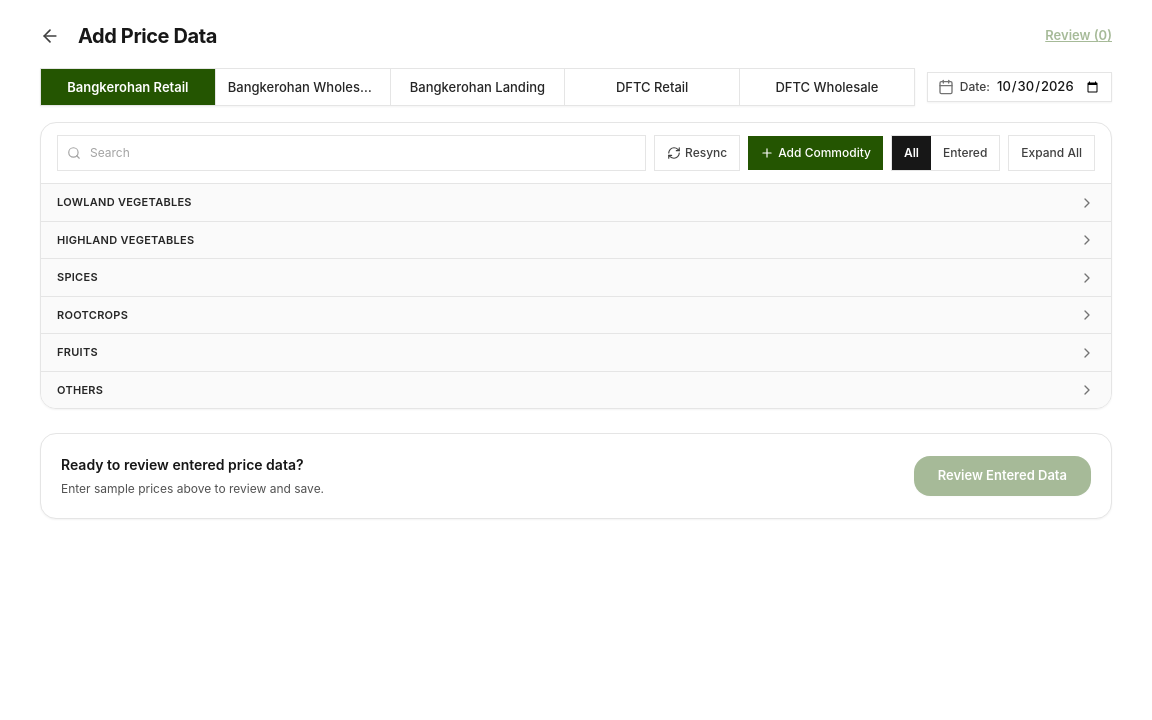
Scenario: DFTCPriceInput shared draft resync › Resync pulls the other inputter's draft cell into the form
Step 1. Click the button "Lowland Vegetables" → (124, 202), box [41,184,1111,221]
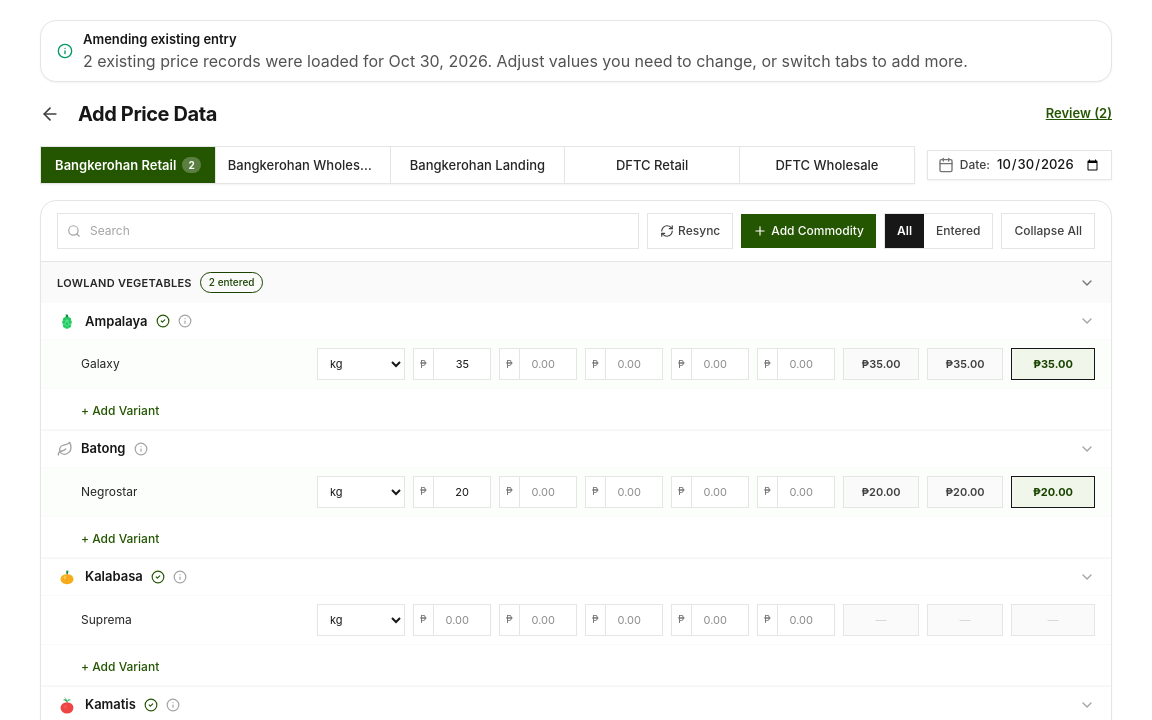
Expected: the number field with placeholder "0.00" in the row of "Galaxy" holds "35", [434,356,490,373]
Step 2. Click the button with aria-label "Resync shared draft" → (690, 231), box [647,213,733,249]
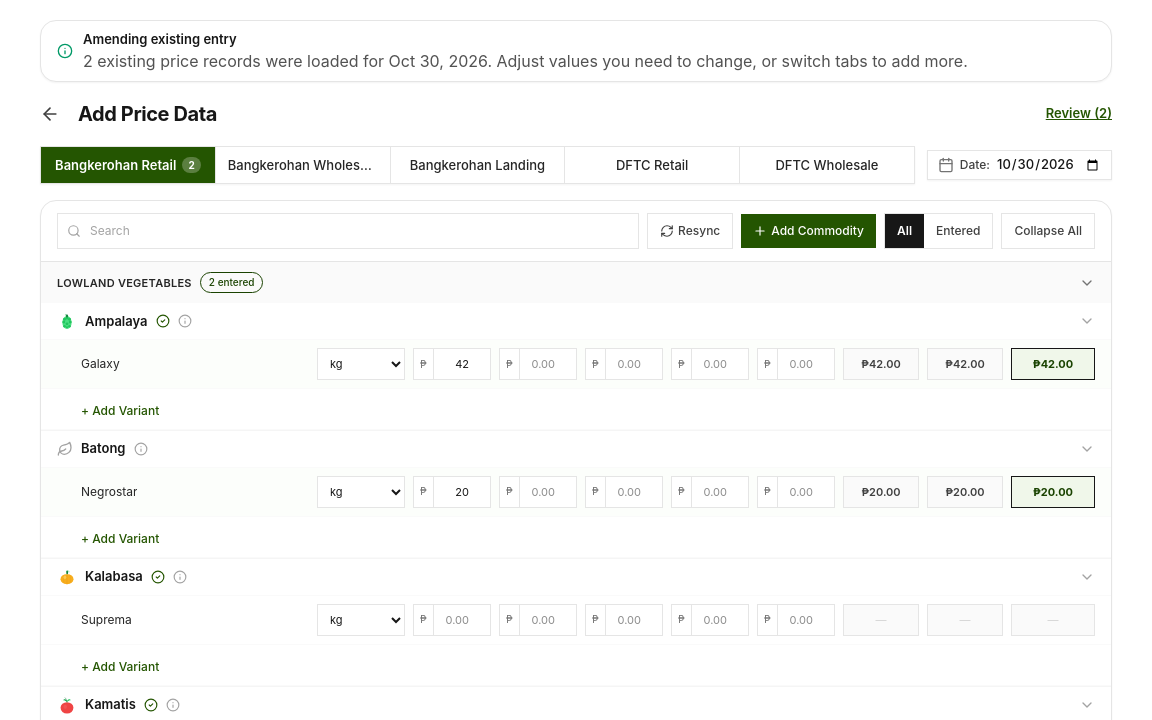
Expected: the number field with placeholder "0.00" in the row of "Galaxy" holds "42", [434,356,490,373]
